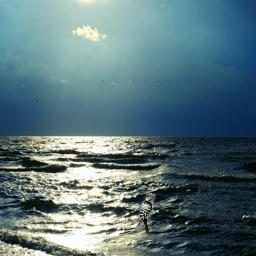Woodpecker: (138, 194, 156, 234)
